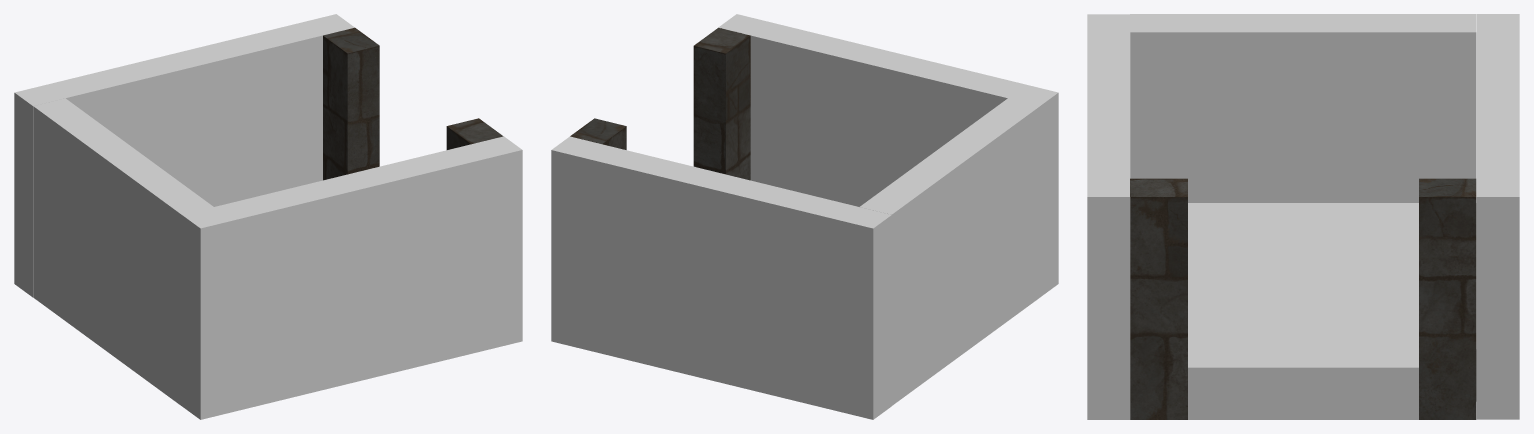
Rendered from DeadEndRoomSmall.fbx.
3 views of the same model, side by side, from view 1: azimuth 30°, elevation 25°; view 2: azimuth 150°, elevation 25°; view 3: azimuth 270°, elevation 25° (orthographic). The views are drawn at different scales.
Parts seen in each view (by area): view 1: Wall.007, Wall.009, Wall.010, Wall.015; view 2: Wall.009, Wall.007, Wall.010, Wall.015; view 3: Wall.010, DeadEndRoom, Wall.015, Wall.009, Wall.007.
Part boxes in pixels (box(x1,y1,x2,y2)): Wall.007: box(182, 136, 522, 419); Wall.009: box(14, 14, 354, 297); Wall.010: box(33, 98, 213, 405); Wall.015: box(323, 27, 503, 180); Wall.009: box(551, 136, 891, 419); Wall.007: box(718, 14, 1058, 296); Wall.010: box(860, 98, 1040, 405); Wall.015: box(570, 27, 750, 180); Wall.010: box(1130, 14, 1476, 202); DeadEndRoom: box(1188, 203, 1476, 419); Wall.015: box(1130, 178, 1476, 419); Wall.009: box(1476, 14, 1519, 419); Wall.007: box(1087, 14, 1130, 419).
Size of the model in its own units: 7.51 by 7.5 by 4.26.
